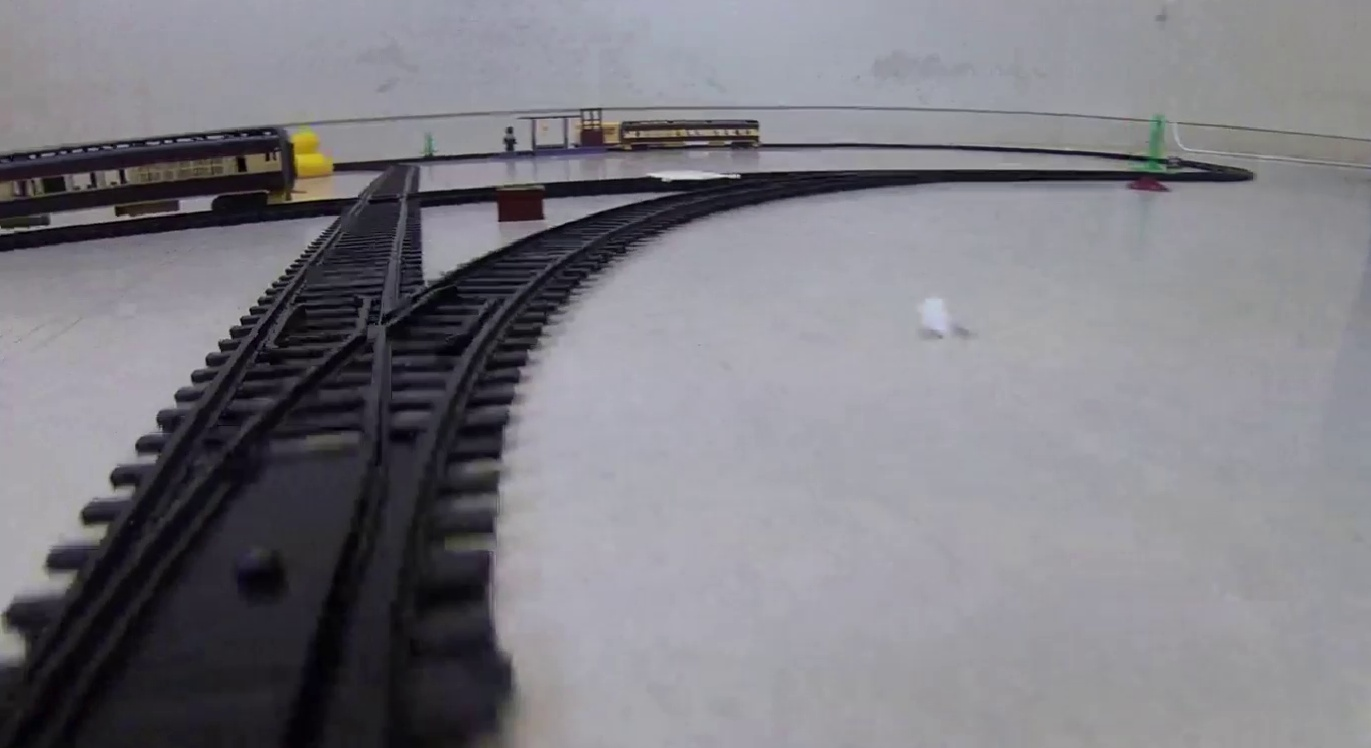box: (495, 186, 549, 223)
